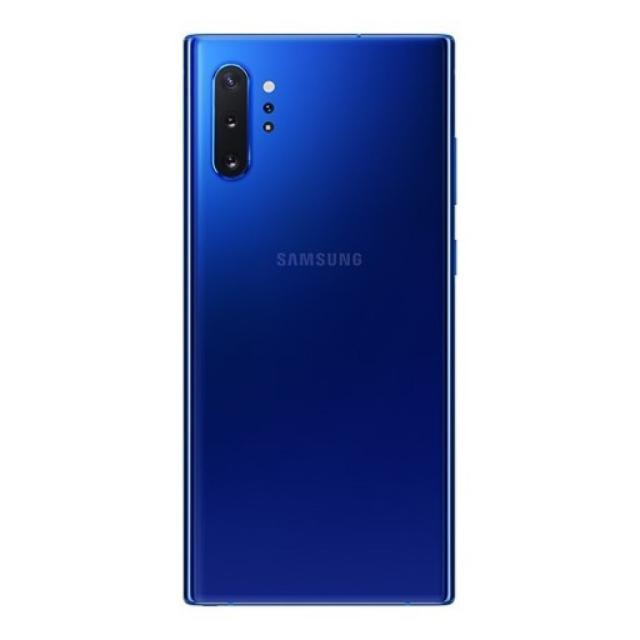phone: (178, 29, 459, 610)
